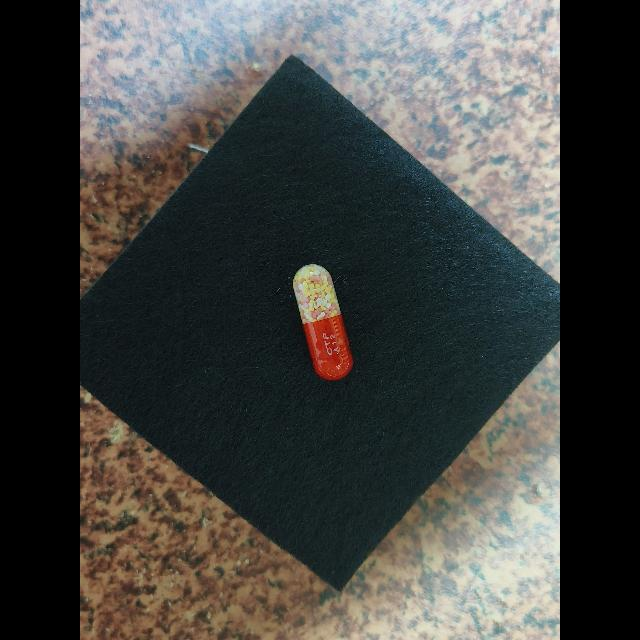Intact Capsule: (293, 264, 353, 380)
